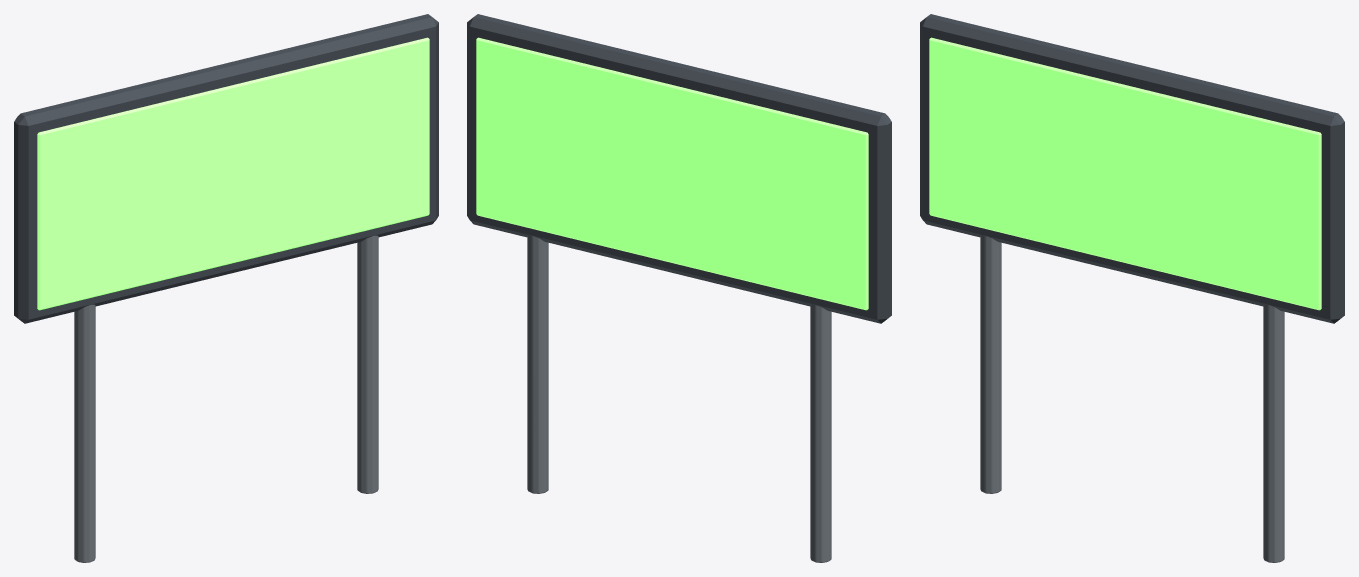
File: la-highwaysign.glb
3 renders of one model, left to right at view 1: azimuth 30°, elevation 25°; view 2: azimuth 150°, elevation 25°; view 3: azimuth 330°, elevation 25°, orthographic.
Visible parts, largest first — view 1: AD_SURFACE_ROADSIGN_FRONT, RoadSign_Frame, RoadSign_Post.001, RoadSign_Post; view 2: AD_SURFACE_ROADSIGN_BACK, RoadSign_Frame, RoadSign_Post.001, RoadSign_Post; view 3: AD_SURFACE_ROADSIGN_FRONT, RoadSign_Frame, RoadSign_Post, RoadSign_Post.001.
Part boxes in pixels (x1,y1,x2,y2): AD_SURFACE_ROADSIGN_FRONT: (37,37,429,310); RoadSign_Frame: (14,14,438,323); RoadSign_Post.001: (357,235,378,493); RoadSign_Post: (74,304,95,562); AD_SURFACE_ROADSIGN_BACK: (476,37,868,310); RoadSign_Frame: (467,14,891,323); RoadSign_Post.001: (527,235,548,493); RoadSign_Post: (810,304,831,562); AD_SURFACE_ROADSIGN_FRONT: (929,37,1321,310); RoadSign_Frame: (920,14,1344,323); RoadSign_Post: (980,235,1001,493); RoadSign_Post.001: (1263,304,1284,562).
Bounding box in the file's own units: 5.2 × 5.42 × 0.35.
